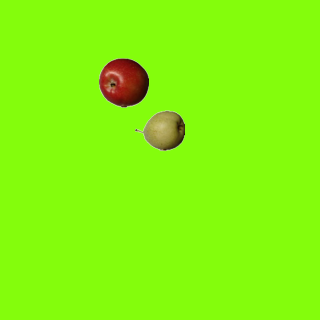Apple Braeburn: (98, 57, 148, 107)
Pear: (134, 105, 184, 155)
